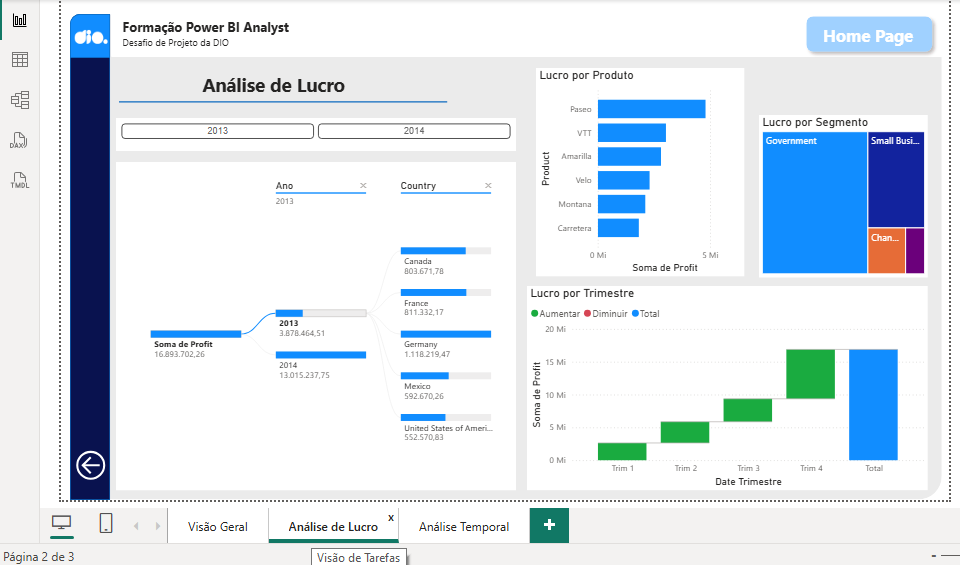

Layout of this report page (visuals, bound fields, positions):
{"tool":"powerbi","page":{"name":"Análise de Lucro","canvas":[1280,720],"ordinal":1},"visuals":[{"type":"actionButton","title":"Home Page","box":[1064.7,14.6,199.6,69.2],"z":0,"group":"g2"},{"type":"shape","box":[42.6,20.7,1225.3,699.3],"z":0},{"type":"shape","box":[83.9,127.8,473,37.1],"z":0,"group":"g1"},{"type":"shape","box":[12.4,20.2,57.7,699.8],"z":1000},{"type":"textbox","box":[1076.9,29.4,173,42.6],"z":1000,"group":"g2"},{"type":"textbox","box":[85.3,97.6,470.2,52.2],"z":1000,"group":"g1"},{"type":"shape","box":[12.4,20.6,57.7,63.2],"z":2000},{"type":"image","box":[13.7,33,57.7,39.9],"z":3000},{"type":"shape","title":"Fundo do Título","box":[71.5,20.6,1198.9,61.9],"z":4000},{"type":"textbox","title":"Título do report","box":[83.9,22,378.1,63.2],"z":5000},{"type":"shape","box":[79.7,233.7,576.1,473],"z":6000},{"type":"decompositionTreeVisual","fields":{"Analyze":["Sum(financials.Profit)"],"ExplainBy":["financials.Date.Variation.Hierarquia de datas.Ano","financials.Country"]},"box":[99.8,242.2,536.3,456.5],"z":7000},{"type":"waterfallChart","title":"Lucro por Trimestre","fields":{"Category":["financials.Date.Variation.Hierarquia de datas.Trimestre"],"Y":["Sum(financials.Profit)"]},"box":[670.9,412.5,577.4,294.2],"z":8000},{"type":"ChicletSlicer1448559807354","fields":{"Category":["financials.Date.Variation.Hierarquia de datas.Ano"]},"box":[79.7,170.5,576.1,48.1],"z":9000},{"type":"treemap","title":"Lucro por Segmento","fields":{"Values":["Sum(financials.Profit)"],"Group":["financials.Segment"]},"box":[1005,165,243.4,233.7],"z":10000},{"type":"group","id":"g1","title":"Sales report","box":[83.9,97.6,473,67.4],"z":11000},{"type":"actionButton","box":[15.9,622.4,54,96.9],"z":12000},{"type":"group","id":"g2","title":"Botão home","box":[1064.7,14.6,199.6,69.2],"z":13000},{"type":"clusteredBarChart","title":"Lucro por Produto","fields":{"Category":["financials.Product"],"Y":["Sum(financials.Profit)"]},"box":[684,97.9,300,300],"z":14000}]}

Visuals, with their boxes on the page's 1280x720 design canvas (x1, y1, x2, y2). These are canvas units, not pixel positions in the 960x565 screenshot, which may show the page scaled, cropped or inside an application window:
"Home Page" actionButton: region(1065, 15, 1264, 84)
shape: region(43, 21, 1268, 720)
shape: region(84, 128, 557, 165)
shape: region(12, 20, 70, 720)
textbox: region(1077, 29, 1250, 72)
textbox: region(85, 98, 556, 150)
shape: region(12, 21, 70, 84)
image: region(14, 33, 71, 73)
"Fundo do Título" shape: region(72, 21, 1270, 82)
"Título do report" textbox: region(84, 22, 462, 85)
shape: region(80, 234, 656, 707)
decompositionTreeVisual - Sum(financials.Profit) x financials.Date.Variation.Hierarquia de datas.Ano: region(100, 242, 636, 699)
"Lucro por Trimestre" waterfallChart: region(671, 412, 1248, 707)
ChicletSlicer1448559807354 - financials.Date.Variation.Hierarquia de datas.Ano: region(80, 170, 656, 219)
"Lucro por Segmento" treemap: region(1005, 165, 1248, 399)
"Sales report" group: region(84, 98, 557, 165)
actionButton: region(16, 622, 70, 719)
"Botão home" group: region(1065, 15, 1264, 84)
"Lucro por Produto" clusteredBarChart: region(684, 98, 984, 398)
